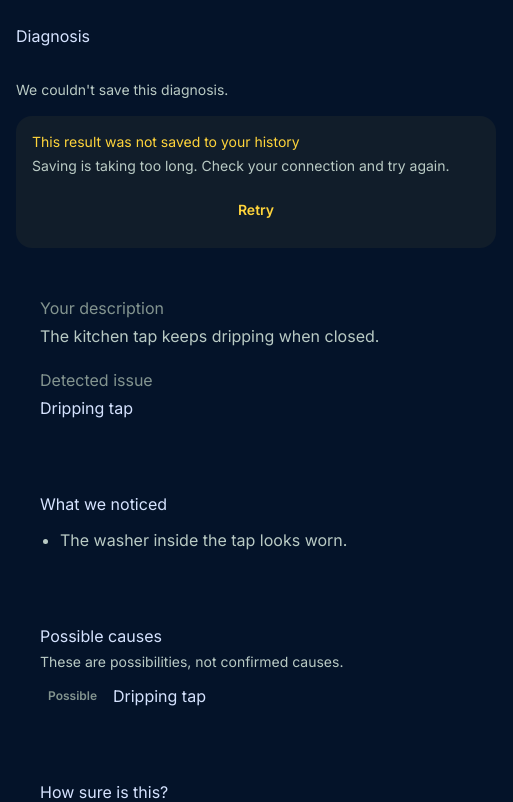
Test: a hung diagnosis save no longer blocks retries › stuck on a read: times out with a retry, and the retry starts a fresh save
Expected: the text "Saving is taking too long. Check your connection and try again." is shown, [32, 156, 480, 176]
Expected: the text "We couldn't save this diagnosis." is shown, [16, 81, 228, 98]
Click the button "Retry" at point(256, 210), box [32, 188, 480, 232]
(page scrolled)
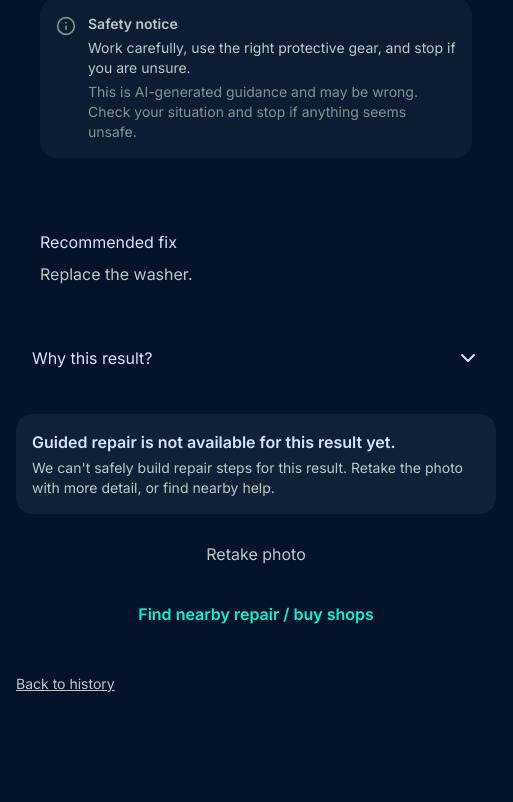
Now the link "Back to history" is shown, box [16, 675, 115, 692]
